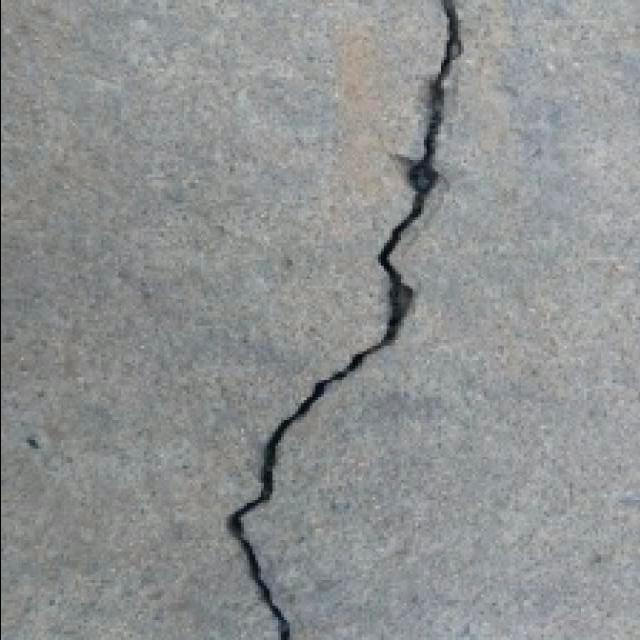SurfaceCrack: (218, 0, 464, 638)
